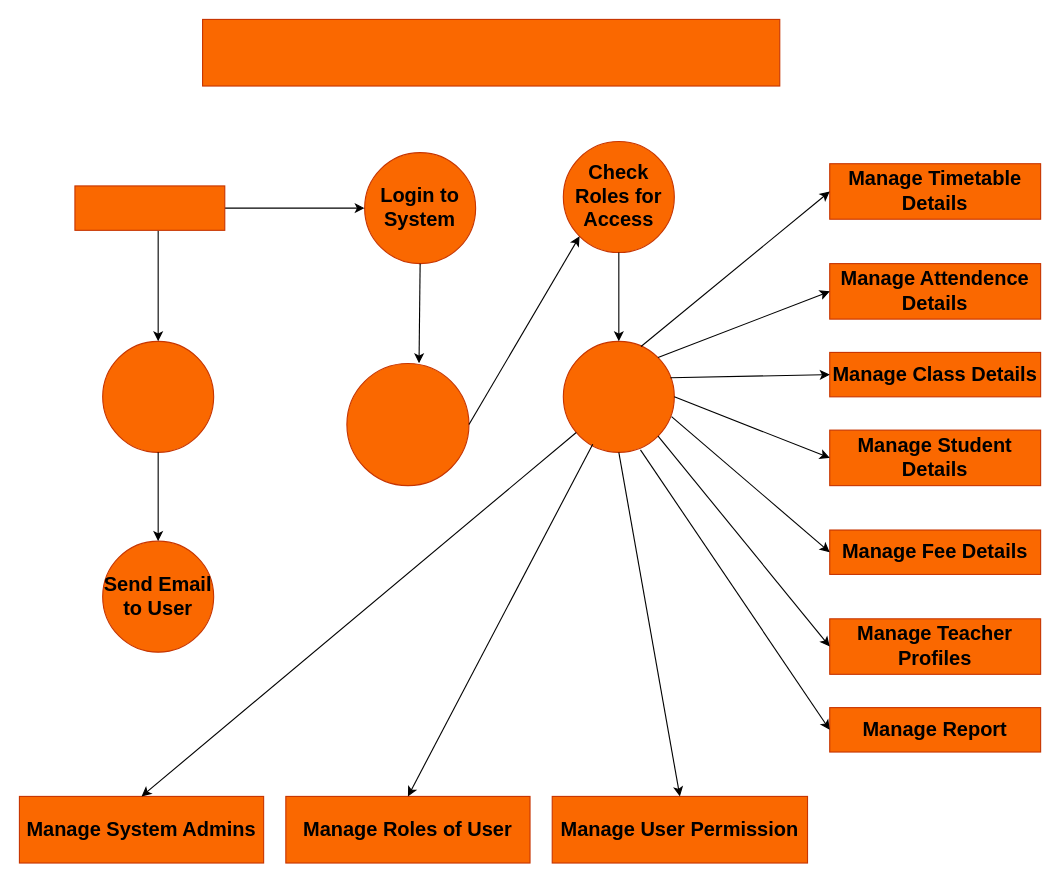
Image size: 1060x882. Some labels were removed from this diagram. The shapes that lost their labels are listed below. From the top down, each one's centre as x and y in pixels, then its label:
At (x=490, y=52): "Student Information System".
At (x=149, y=207): "Admin".
At (x=158, y=396): "Forgot Password".
At (x=618, y=396): "Manage Modules".
At (x=407, y=424): "Check Credentials".
